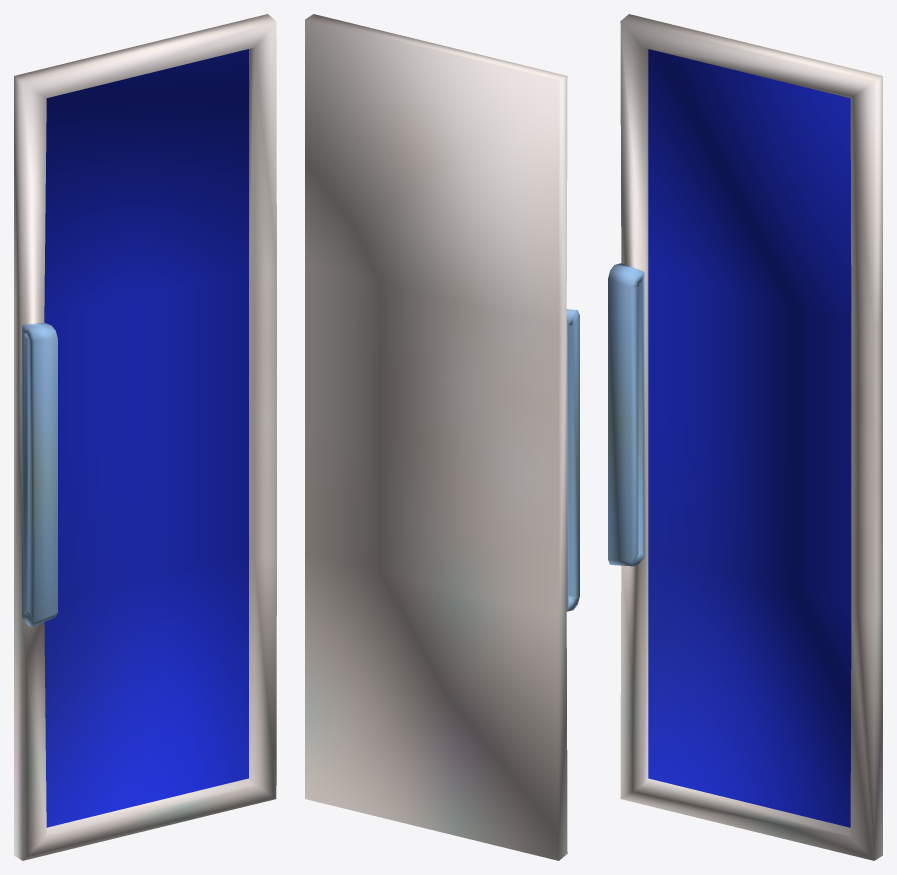
Rendered from PortaEstanteRemedios.fbx.
3 renders of one model, left to right at view 1: azimuth 30°, elevation 25°; view 2: azimuth 150°, elevation 25°; view 3: azimuth 330°, elevation 25°, orthographic.
Visible parts, largest first — view 1: PortaEstanteRemedios; view 2: PortaEstanteRemedios; view 3: PortaEstanteRemedios.
Part boxes in pixels (bbox=[...]): PortaEstanteRemedios: bbox=[14, 14, 276, 860]; PortaEstanteRemedios: bbox=[305, 14, 579, 860]; PortaEstanteRemedios: bbox=[608, 14, 882, 860].
Size of the model in its own units: 49.93 by 147 by 7.16.
1 material, 1 textured.
